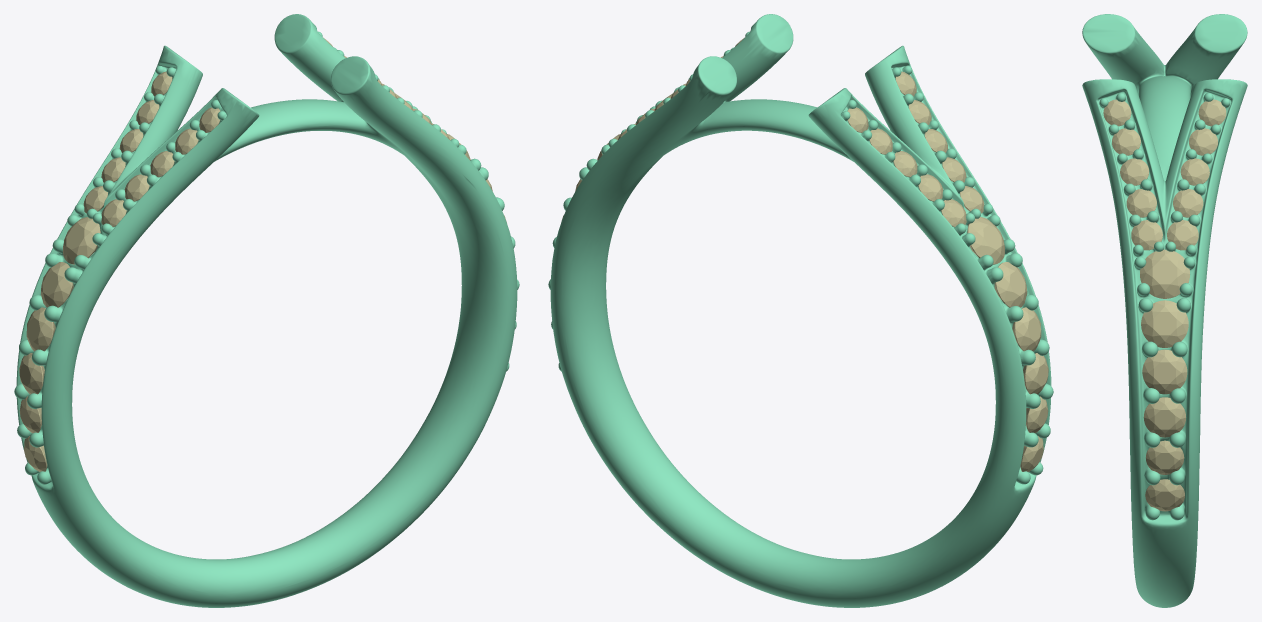
3 views of the same model, side by side, from view 1: azimuth 30°, elevation 25°; view 2: azimuth 150°, elevation 25°; view 3: azimuth 270°, elevation 25° (orthographic).
Parts seen in each view (by area): view 1: Metal02, Diamond_Gem.010, Diamond_Gem.009, Diamond_Gem.008, Diamond_Gem.007; view 2: Metal02, Diamond_Gem.010, Diamond_Gem.009, Diamond_Gem.008, Diamond_Gem.007; view 3: Metal02, Diamond_Gem.021, Diamond_Gem.022, Diamond_Gem.023, Diamond_Gem.024, Diamond_Gem.018, Diamond_Gem.025, Diamond_Gem.030, Diamond_Gem.031, Diamond_Gem.019, Diamond_Gem.020, Diamond_Gem.026 (+5 smaller).
Part boxes in pixels (box(x1,y1,x2,y2)): Metal02: box(14, 14, 519, 607); Diamond_Gem.010: box(62, 217, 100, 264); Diamond_Gem.009: box(41, 262, 73, 307); Diamond_Gem.008: box(26, 307, 55, 351); Diamond_Gem.007: box(19, 353, 44, 394); Metal02: box(548, 14, 1053, 607); Diamond_Gem.010: box(967, 217, 1004, 264); Diamond_Gem.009: box(994, 262, 1027, 307); Diamond_Gem.008: box(1012, 307, 1041, 351); Diamond_Gem.007: box(1023, 353, 1048, 394); Metal02: box(1082, 14, 1247, 607); Diamond_Gem.021: box(1140, 249, 1189, 298); Diamond_Gem.022: box(1141, 300, 1188, 347); Diamond_Gem.023: box(1142, 349, 1187, 394); Diamond_Gem.024: box(1143, 397, 1186, 437); Diamond_Gem.018: box(1145, 440, 1184, 474); Diamond_Gem.025: box(1145, 479, 1184, 511); Diamond_Gem.030: box(1167, 220, 1198, 250); Diamond_Gem.031: box(1131, 220, 1162, 250); Diamond_Gem.019: box(1173, 189, 1203, 217); Diamond_Gem.020: box(1126, 189, 1156, 217); Diamond_Gem.026: box(1180, 158, 1209, 185).
Size of the model in its own units: 21.02 by 22.3 by 6.24.
